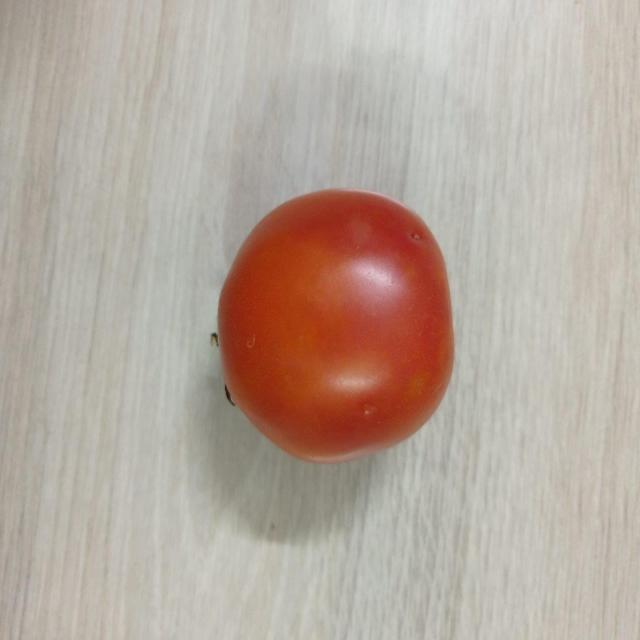Tomato: (210, 184, 458, 465)
